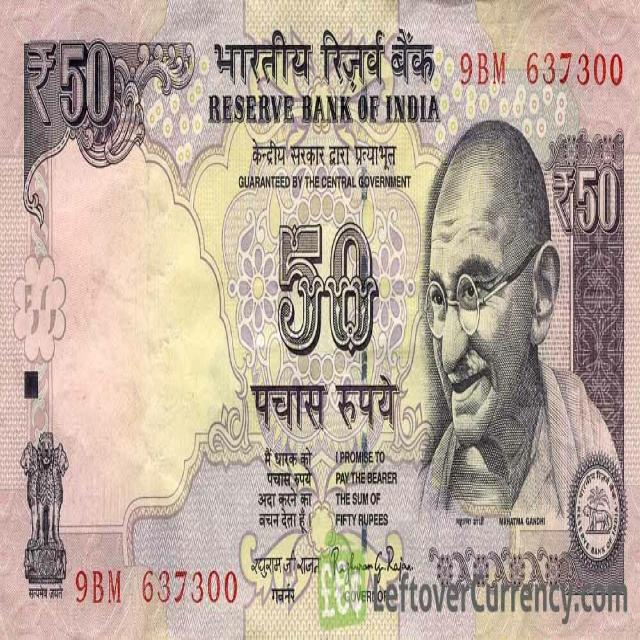50IndianRupees: (0, 0, 640, 640), (211, 1, 639, 636), (0, 0, 398, 639)
